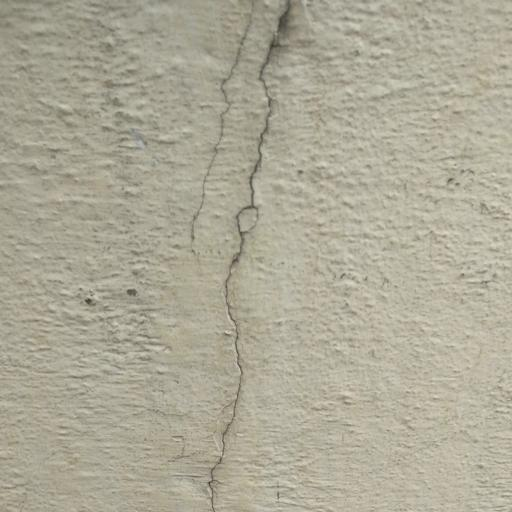minor_crack: (183, 0, 314, 512)
